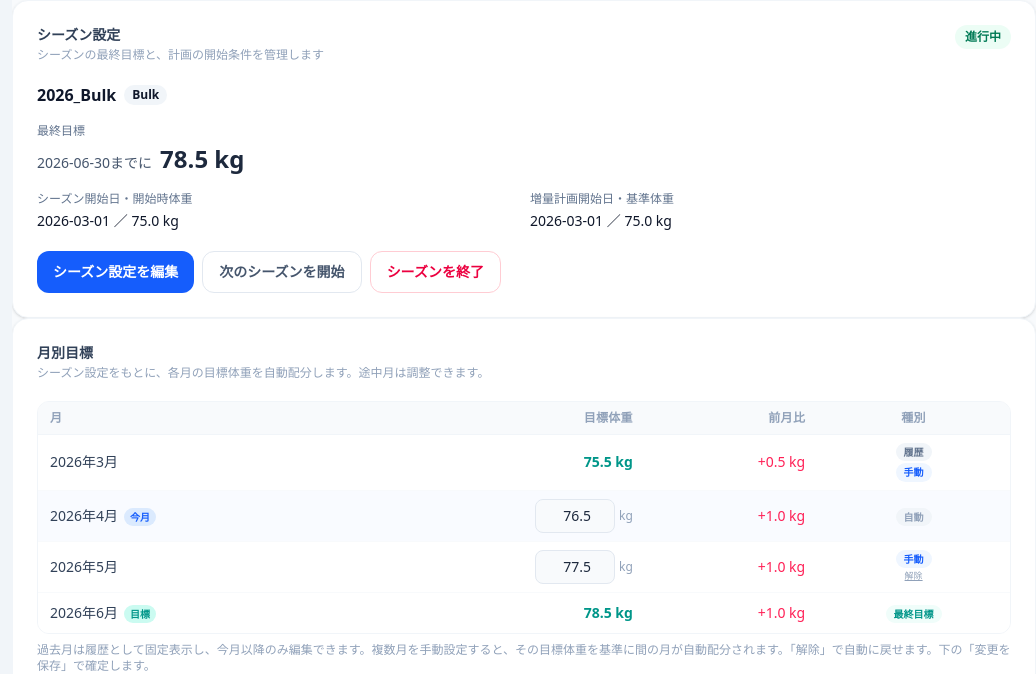
Scenario: SeasonSettingsSections › 期間外・不正な開始日 2026-02-28 は確認に進めない
Step 1. Click the button "シーズン設定を編集" → (116, 272), box x1=37 y1=251 x2=194 y2=293
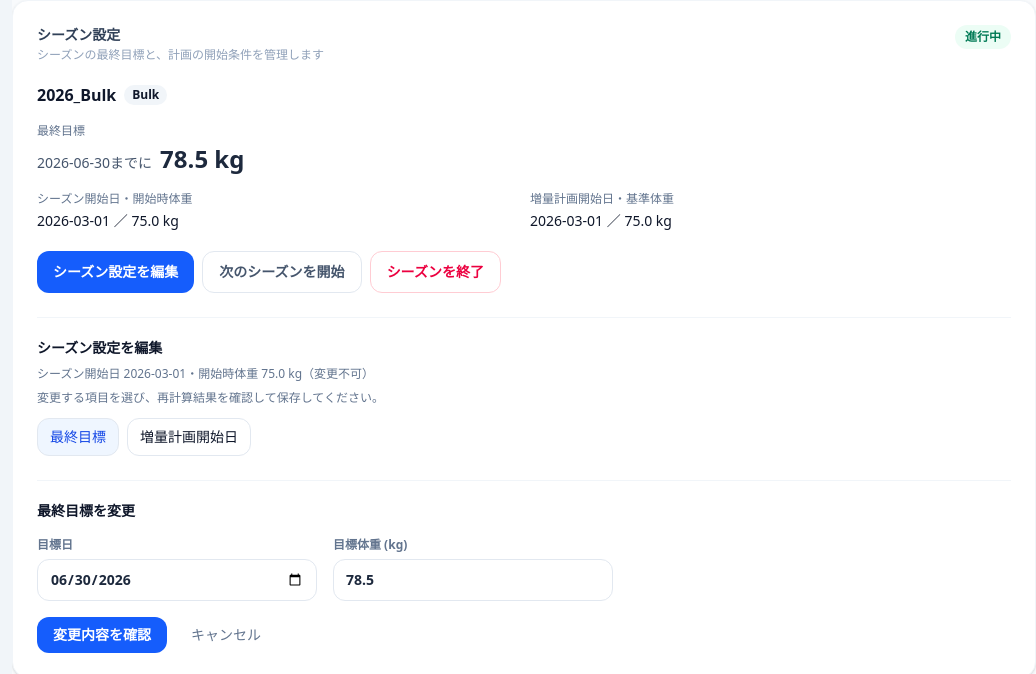
Step 2. Click the button "増量計画開始日" → (189, 437), box x1=127 y1=418 x2=251 y2=456
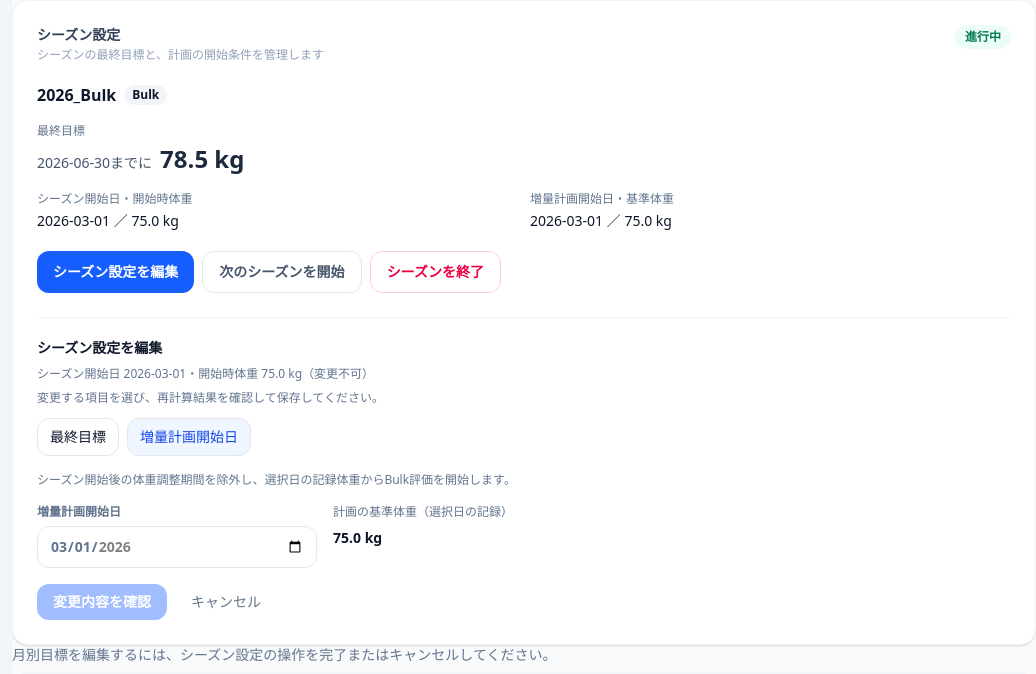
Step 3. Type "2026-02-28" into the date field labelled "増量計画開始日" → (177, 547), box x1=37 y1=526 x2=317 y2=568
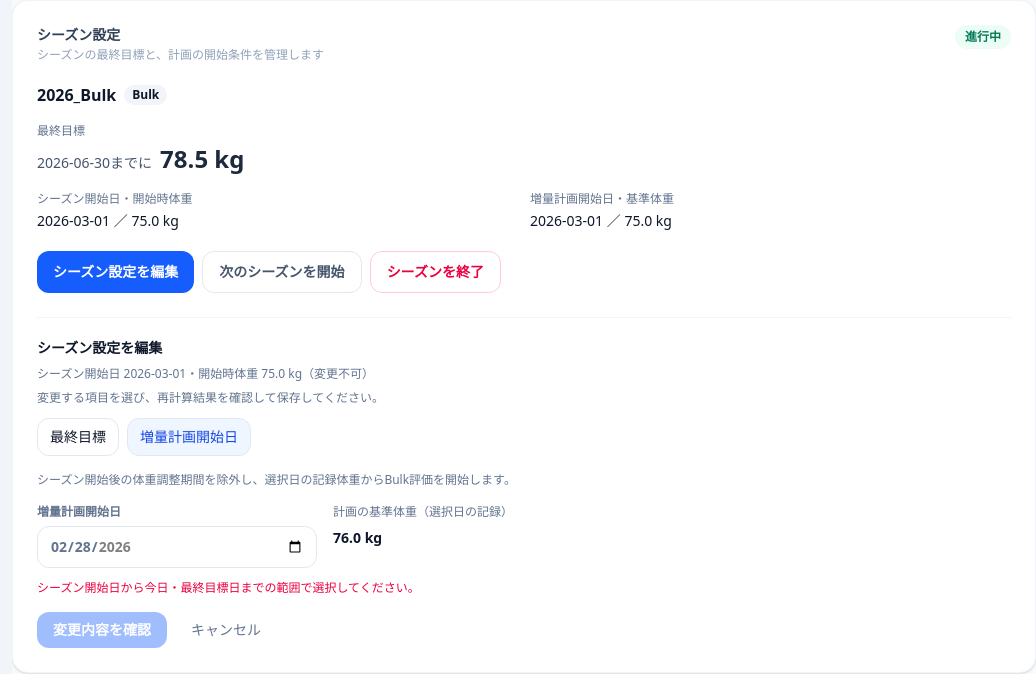
Result: the button "変更内容を確認" is disabled at x1=37 y1=612 x2=167 y2=648
Result: the text "シーズン開始日から今日・最終目標日までの範囲で選択してください。" is shown at x1=37 y1=579 x2=420 y2=596
